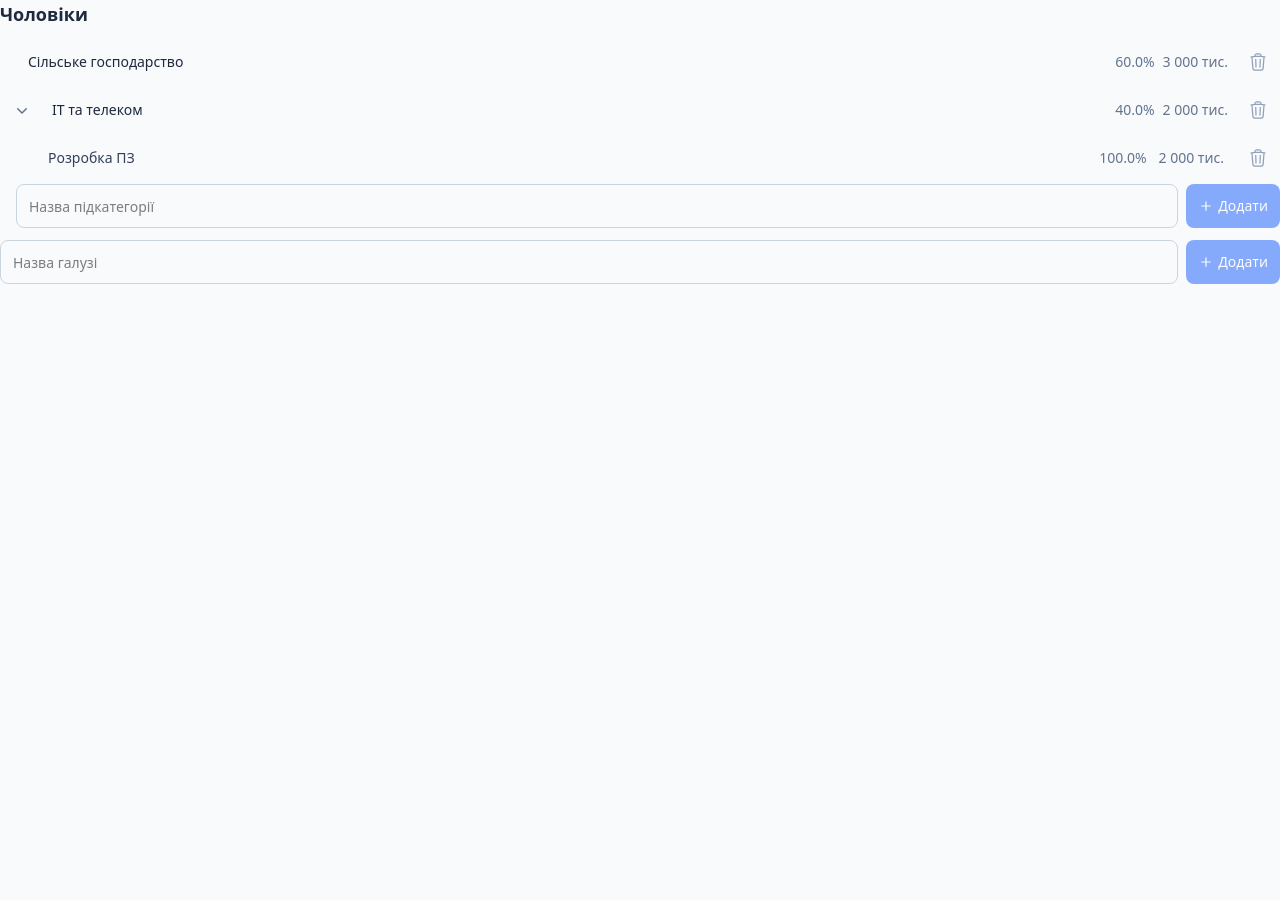
Test: ConfigGenderSection remove flow › shows warning about subcategories when industry has children
IT та телеком has children -- click its remove button directly
Click the button named "Видалити IT та телеком" at (1258, 110), box [1236,88,1279,132]
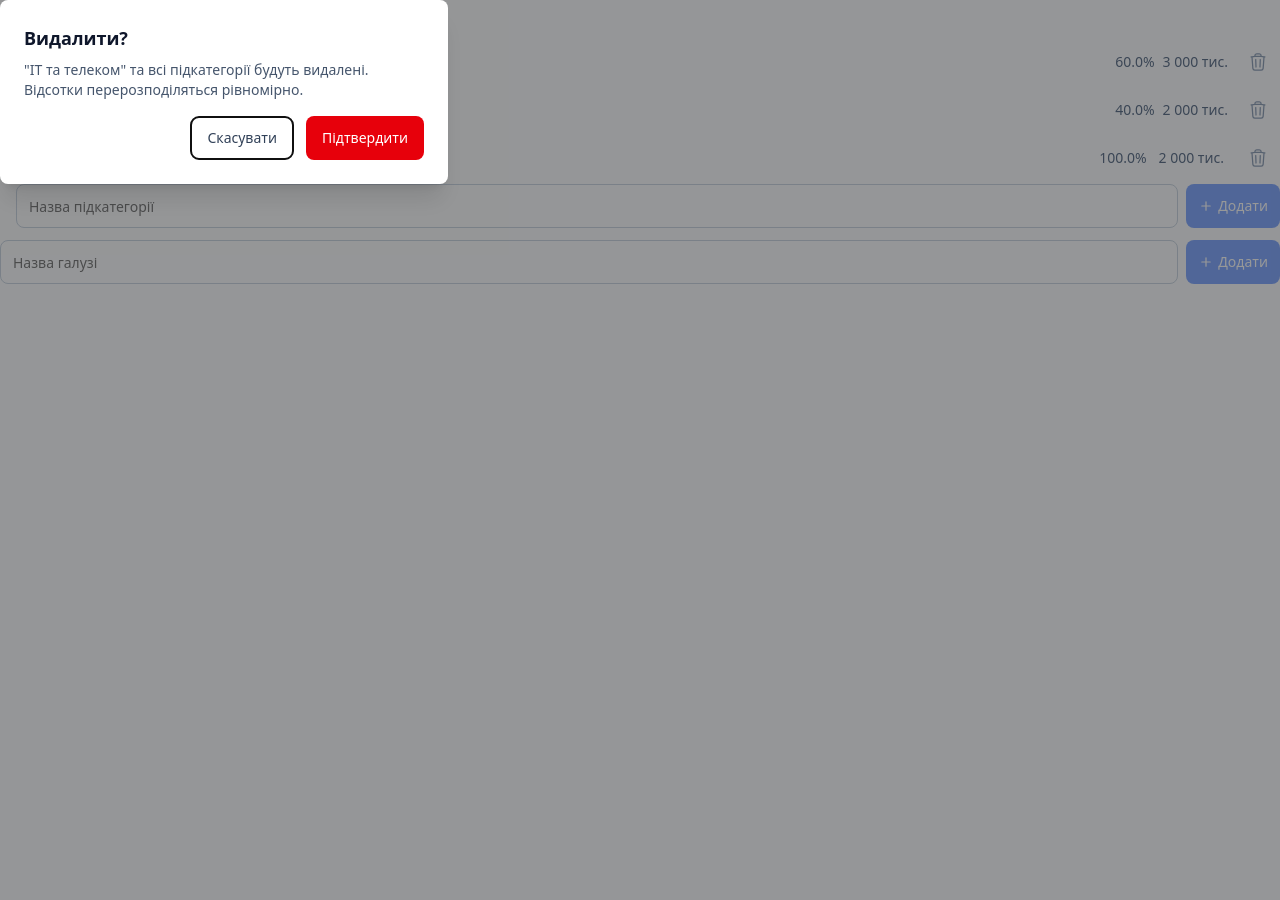
Expected: the text "та всі підкатегорії будуть видалені" is shown, [24,60,368,99]
